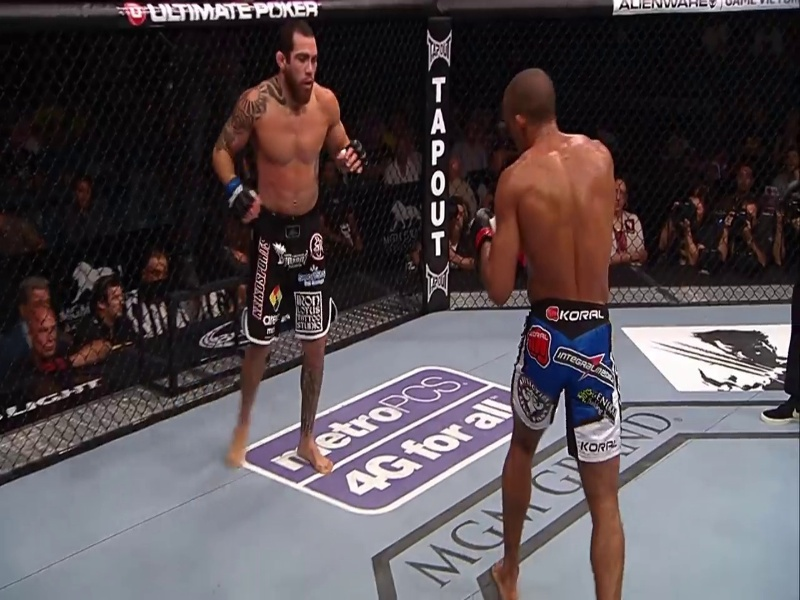fighter: (447, 64, 633, 600), (209, 18, 371, 483)
